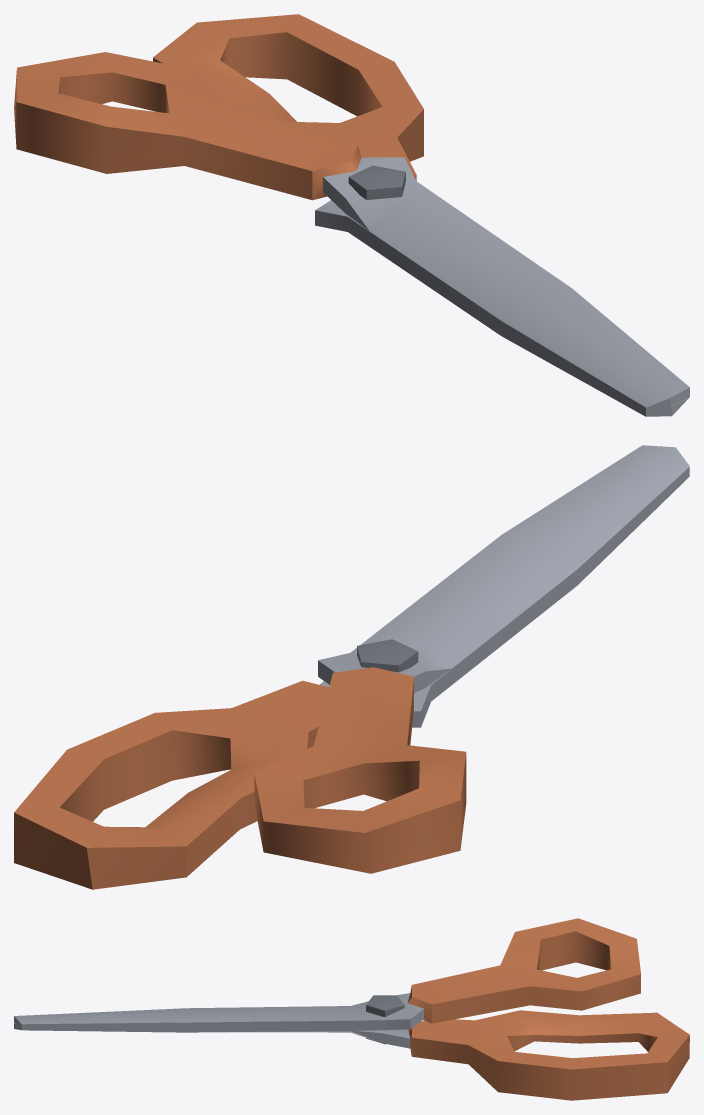
Rendered from SM_Prop_Scissors_01.obj.
3 renders of one model, top to bottom at view 1: azimuth 30°, elevation 25°; view 2: azimuth 150°, elevation 25°; view 3: azimuth 270°, elevation 25°, orthographic. The views are drawn at different scales.
Visible parts, largest first — view 1: SM_Prop_Scissors_01_Mat_SwatchOverlay_PolygonOffice_01_Inst; view 2: SM_Prop_Scissors_01_Mat_SwatchOverlay_PolygonOffice_01_Inst; view 3: SM_Prop_Scissors_01_Mat_SwatchOverlay_PolygonOffice_01_Inst.
Boxes of the visible parts, box(x1,y1,x2,y2) form: SM_Prop_Scissors_01_Mat_SwatchOverlay_PolygonOffice_01_Inst: box(14, 14, 689, 416); SM_Prop_Scissors_01_Mat_SwatchOverlay_PolygonOffice_01_Inst: box(14, 445, 689, 889); SM_Prop_Scissors_01_Mat_SwatchOverlay_PolygonOffice_01_Inst: box(14, 918, 689, 1100).
Size of the model in its own units: 0.1695 by 0.041 by 0.4032.
1 material, 1 textured.
